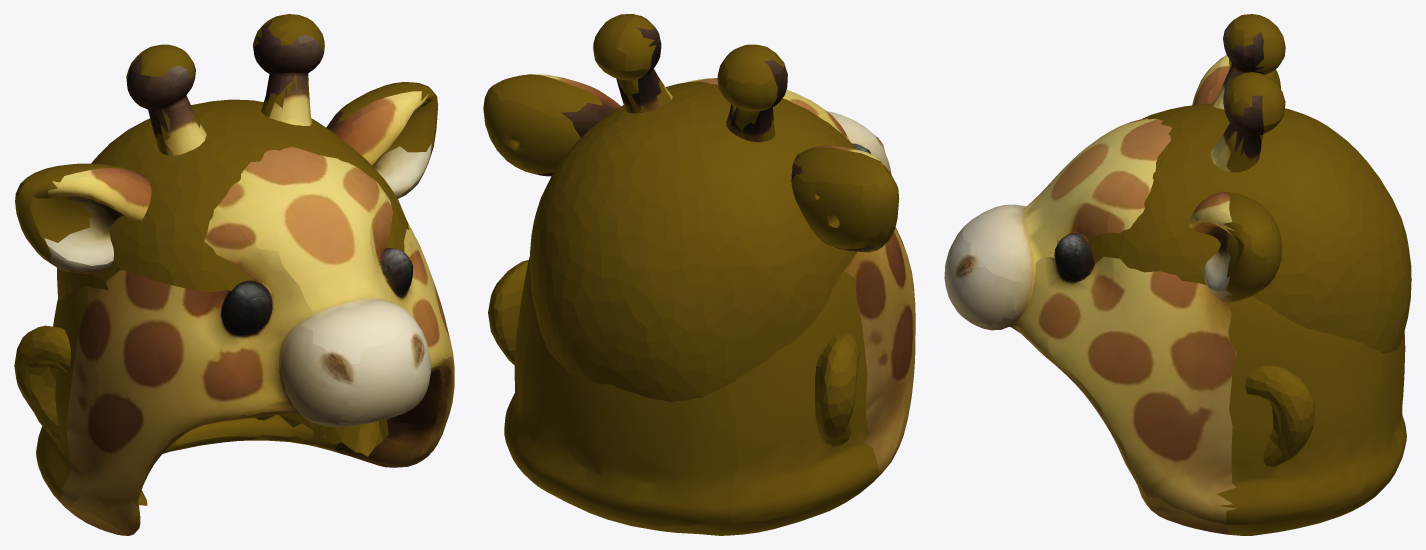
Rendered from giraffe.glb.
The picture shows the model from 3 angles, left to right: view 1: azimuth 30°, elevation 25°; view 2: azimuth 150°, elevation 25°; view 3: azimuth 270°, elevation 25°; orthographic projection. The views are drawn at different scales.
Parts seen in each view (by area): view 1: geometry_0, HoodAnatomicalLining; view 2: geometry_0, HoodAnatomicalLining; view 3: geometry_0, HoodAnatomicalLining.
Part boxes in pixels (box(x1,y1,x2,y2)): geometry_0: box(15, 14, 454, 535); HoodAnatomicalLining: box(14, 99, 409, 505); geometry_0: box(483, 14, 915, 535); HoodAnatomicalLining: box(488, 81, 859, 447); geometry_0: box(944, 14, 1406, 535); HoodAnatomicalLining: box(1087, 103, 1411, 466).
Size of the model in its own units: 0.5204 by 0.5455 by 0.5357.
Materials: 2 (1 with a texture image).
